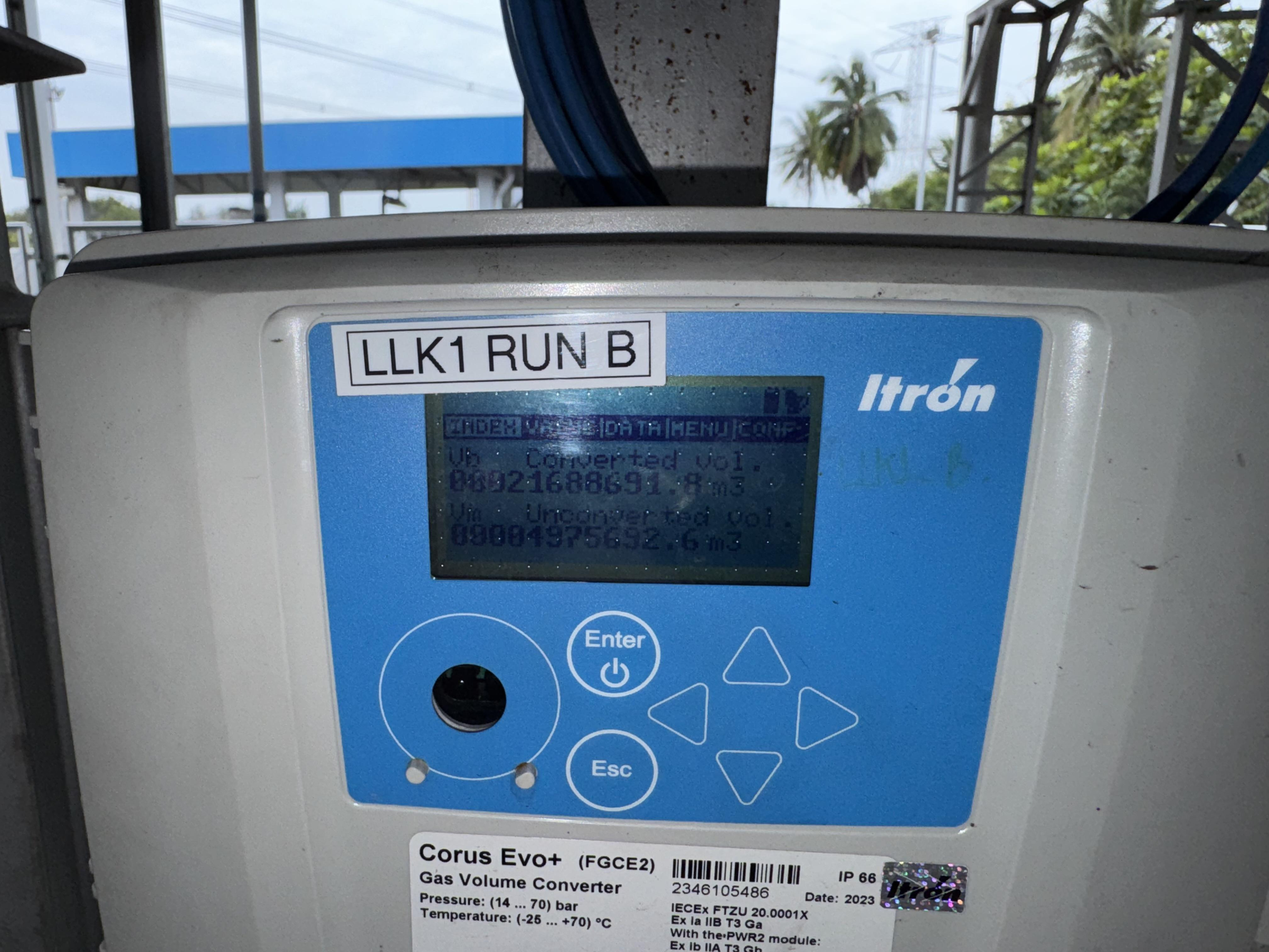digital_screen: (425, 376, 827, 590)
